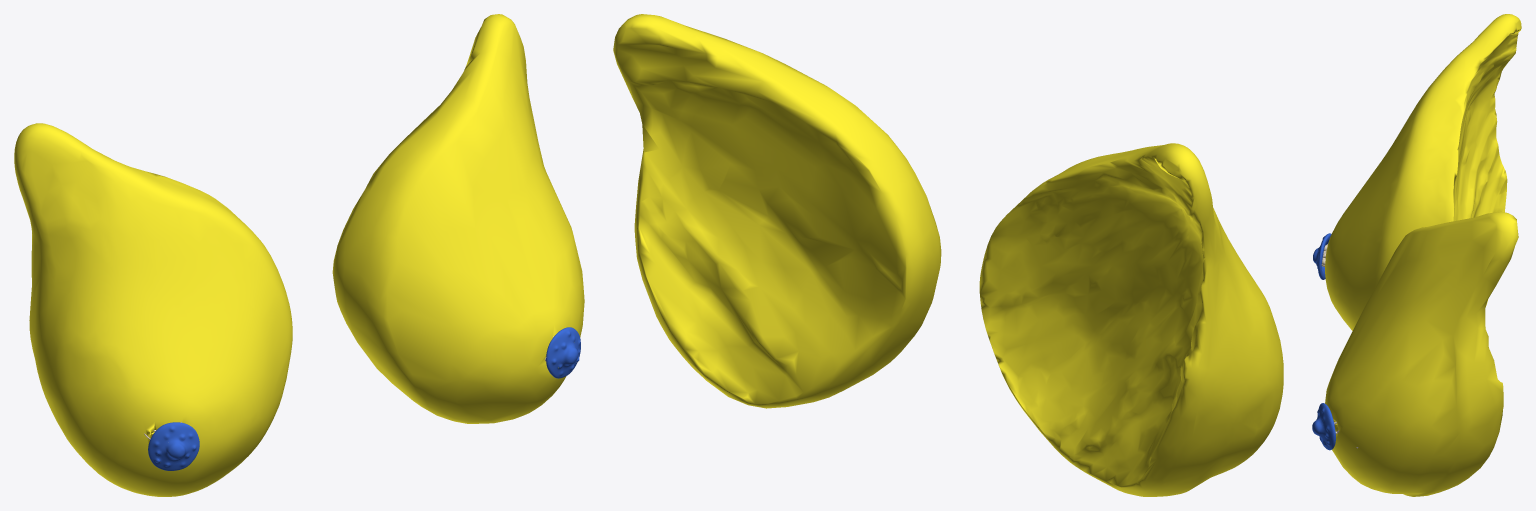
The model's file is breasts.glb.
3 renders of one model, left to right at view 1: azimuth 30°, elevation 25°; view 2: azimuth 150°, elevation 25°; view 3: azimuth 270°, elevation 25°, orthographic. The views are drawn at different scales.
Parts seen in each view (by area): view 1: Breast.r (×2), Breast.l (×2); view 2: Breast.l, Breast.r; view 3: Breast.l (×2), Breast.r (×2).
Boxes of the visible parts, x1,y1,x2,y2 form: Breast.r (×2): (14,123,292,496); Breast.l (×2): (332,14,584,423); Breast.l: (613,14,941,408); Breast.r: (979,143,1283,496); Breast.l (×2): (1316,211,1518,496); Breast.r (×2): (1316,14,1521,330).
Size of the model in its own units: 0.2801 by 0.1771 by 0.1101.
